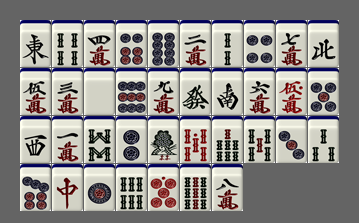0m: (276, 68, 307, 115)
0p: (148, 164, 179, 211)
0s: (180, 116, 211, 163)
1m: (52, 116, 83, 163)
1p: (84, 164, 115, 211)
1s: (148, 116, 179, 163)
1z: (20, 20, 51, 67)
2m: (180, 20, 211, 67)
2p: (116, 116, 147, 163)
2s: (212, 20, 243, 67)
2z: (212, 68, 243, 115)
3m: (52, 68, 83, 115)
3p: (276, 116, 307, 163)
3s: (308, 116, 339, 163)
3z: (20, 116, 51, 163)
4m: (84, 20, 115, 67)
4p: (244, 20, 275, 67)
4s: (52, 20, 83, 67)
4z: (308, 20, 339, 67)
5m: (20, 68, 51, 115)
5p: (308, 68, 339, 115)
5s: (244, 116, 275, 163)
5z: (84, 68, 115, 115)
6m: (244, 68, 275, 115)
6p: (116, 20, 147, 67)
6s: (116, 164, 147, 211)
6z: (180, 68, 211, 115)
7m: (276, 20, 307, 67)
7p: (20, 164, 51, 211)
7s: (212, 116, 243, 163)
7z: (52, 164, 83, 211)
8m: (212, 164, 243, 211)
8p: (148, 20, 179, 67)
8s: (84, 116, 115, 163)
9m: (148, 68, 179, 115)
9p: (116, 68, 147, 115)
9s: (180, 164, 211, 211)
